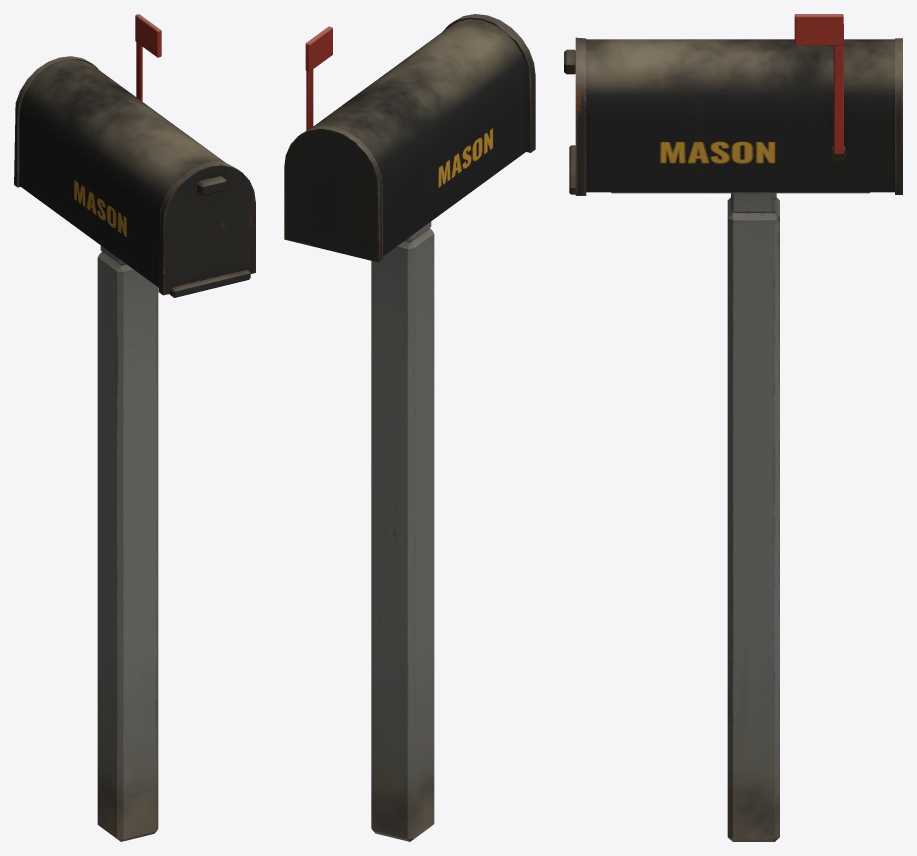
Rendered from mailbox_mason-low.glb.
3 renders of one model, left to right at view 1: azimuth 30°, elevation 25°; view 2: azimuth 150°, elevation 25°; view 3: azimuth 270°, elevation 25°, orthographic. The views are drawn at different scales.
Visible parts, largest first — view 1: mailbox_mason, mailbox_flag; view 2: mailbox_mason, mailbox_flag; view 3: mailbox_mason, mailbox_flag.
Part boxes in pixels (left/top/right/bottom): mailbox_mason: left=14, top=56, right=255, bottom=841; mailbox_flag: left=135, top=14, right=161, bottom=101; mailbox_mason: left=284, top=14, right=535, bottom=841; mailbox_flag: left=305, top=26, right=332, bottom=130; mailbox_mason: left=564, top=37, right=902, bottom=841; mailbox_flag: left=794, top=14, right=843, bottom=154.
Size of the model in its own units: 0.1907 by 1.43 by 0.518.
2 materials, 2 textured.
